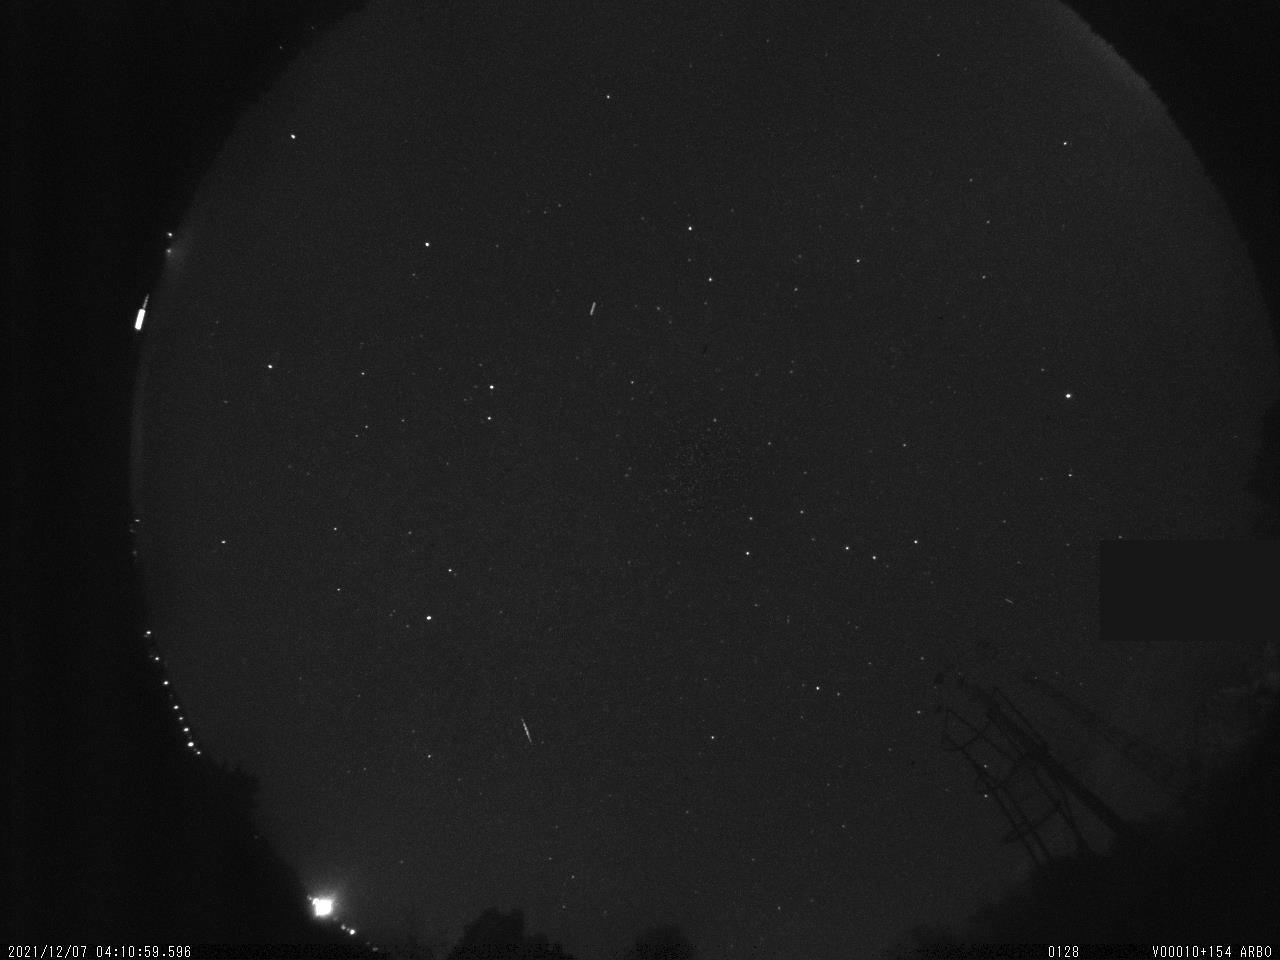meteor: (508, 707, 536, 759)
